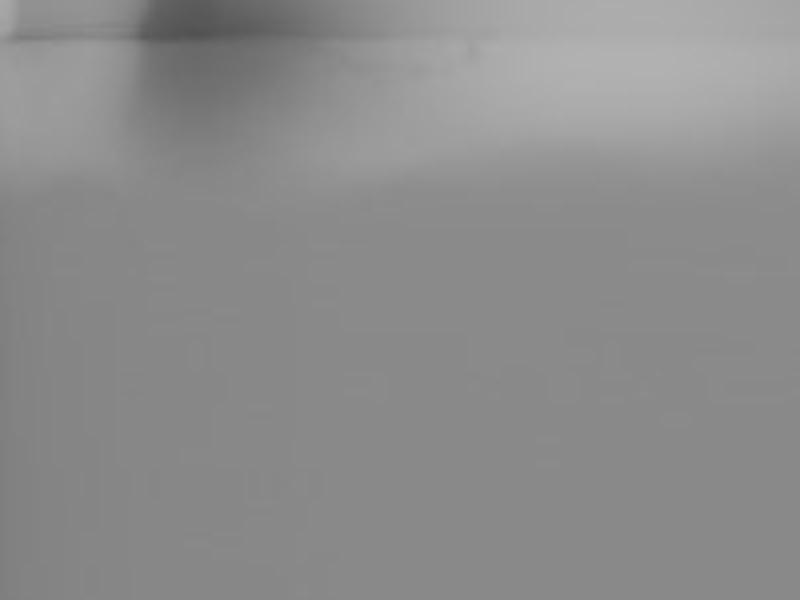defect: (141, 2, 277, 91)
